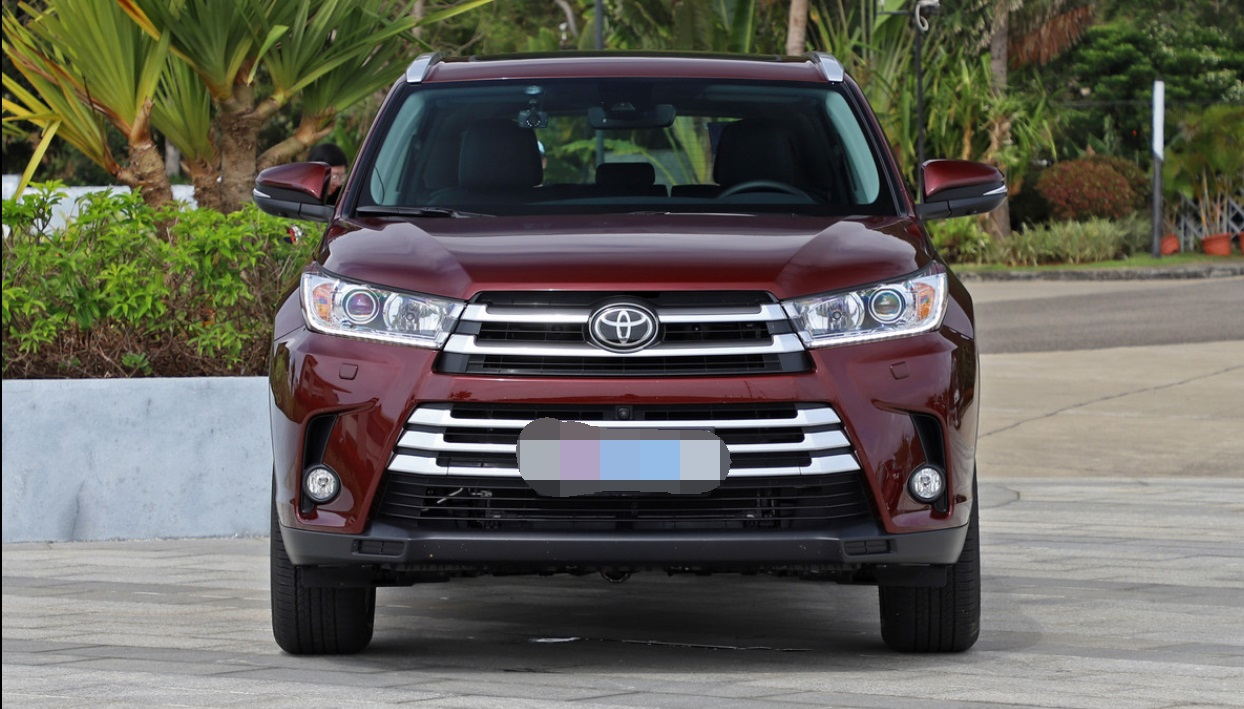SUV: (249, 51, 999, 668)
